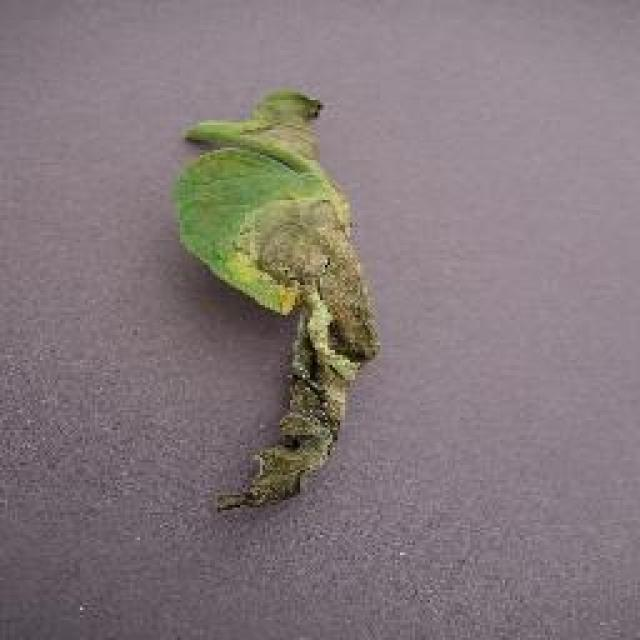Tomato late blight leaf: (175, 91, 380, 516)
